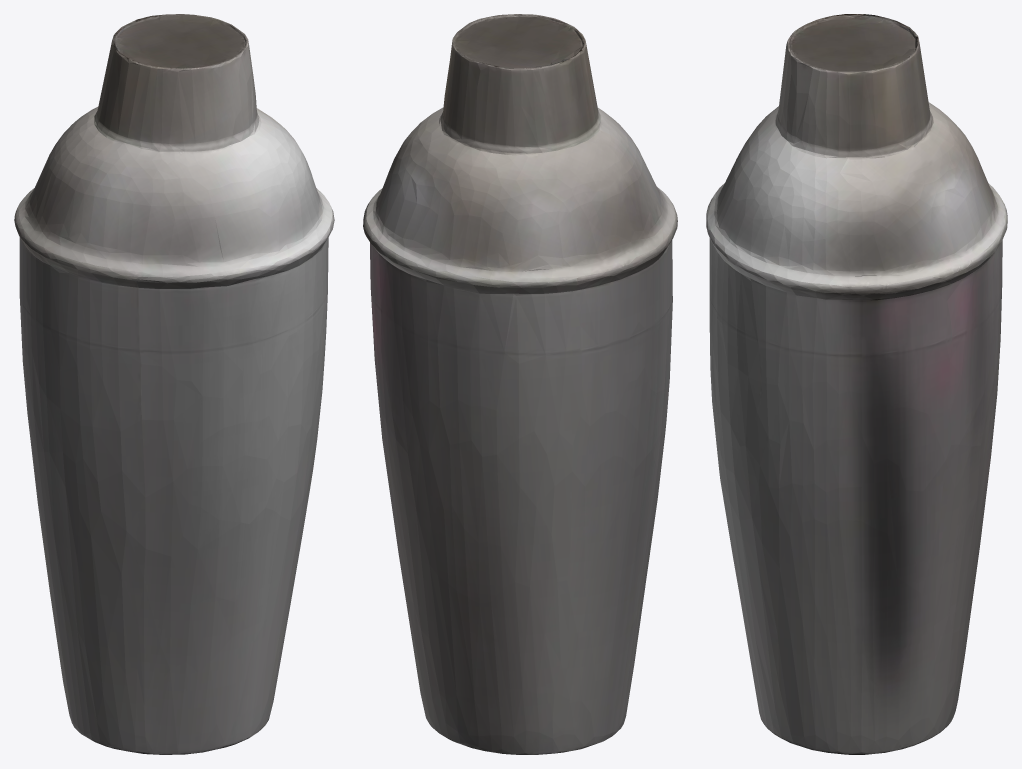
Rendered from cocktail_shaker.glb.
The picture shows the model from 3 angles, left to right: view 1: azimuth 30°, elevation 25°; view 2: azimuth 150°, elevation 25°; view 3: azimuth 270°, elevation 25°; orthographic projection.
Parts seen in each view (by area): view 1: cocktail_shaker; view 2: cocktail_shaker; view 3: cocktail_shaker.
Boxes of the visible parts, x1=… form: cocktail_shaker: x1=14, y1=14, x2=334, y2=754; cocktail_shaker: x1=363, y1=14, x2=677, y2=754; cocktail_shaker: x1=706, y1=14, x2=1007, y2=754.
Bounding box in the file's own units: 0.419 × 0.9657 × 0.391.
1 material, 1 textured.
